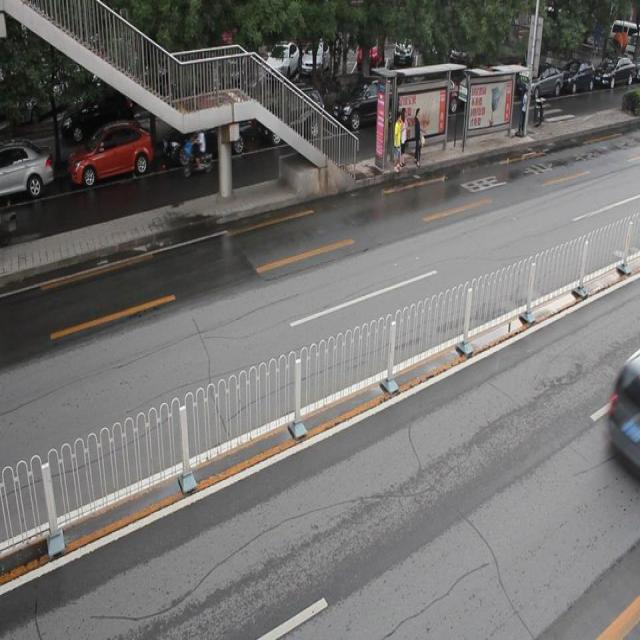car: (69, 122, 155, 186), (163, 109, 249, 167), (259, 88, 326, 149), (332, 75, 398, 132), (1, 142, 54, 202)
